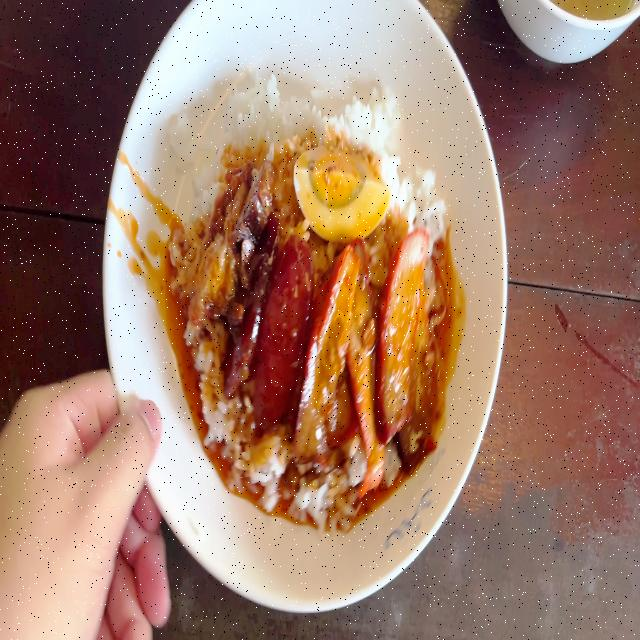boiled_egg: (297, 146, 387, 234)
chainese_sausage: (234, 238, 309, 395)
crispy_pork: (194, 164, 267, 308)
red_pork: (316, 239, 426, 446)
red_pork_and_crispy_pork: (188, 94, 456, 495)
rice: (226, 84, 400, 150)
